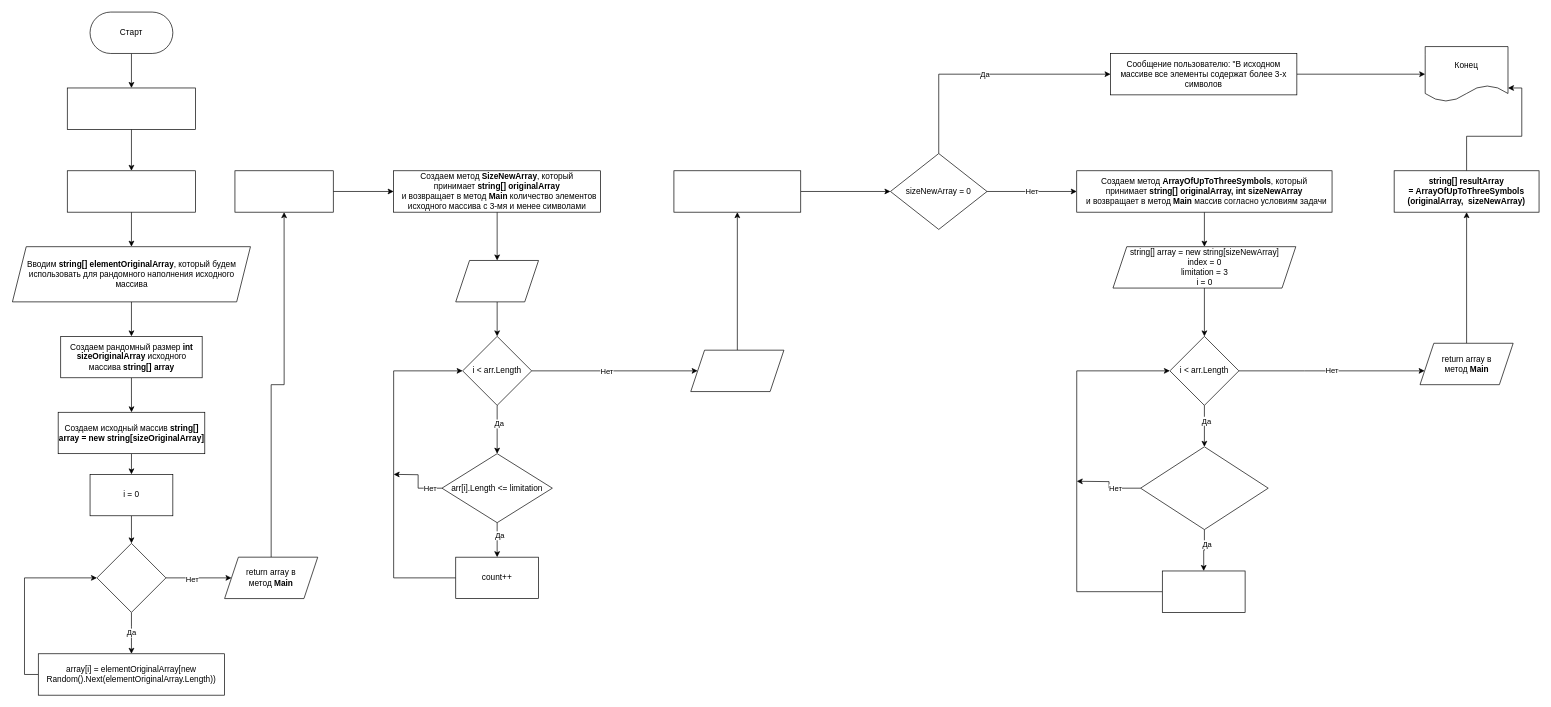
Image size: 1551x707. Some labels were removed from this diagram. The centre of each missing label's shape, as x and y in pixels:
arr[index].Length <= limitation: point (1204, 488)
array[index] = arr[i] index++: point (1203, 591)
i < array.Length: point (131, 577)
i = 0 count = 0 limitation = 3: point (497, 281)
int sizeNewArray = SizeNewArray(originalArray): point (737, 191)
return count в метод Main: point (737, 370)
string[] originalArray = OriginalArray(): point (283, 191)
Создаем метод Main: point (131, 108)
Создаем метод OriginalArray , который возвращает в метод Main исходный массив: point (131, 191)
